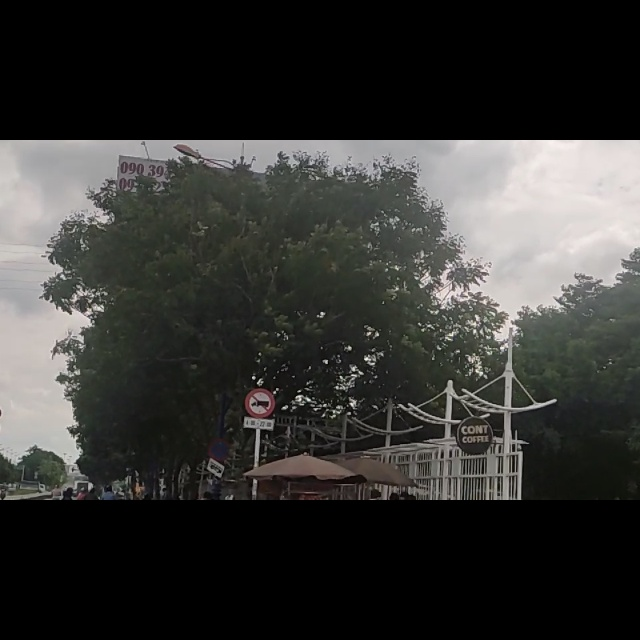bien_cam: (246, 442, 275, 513)
